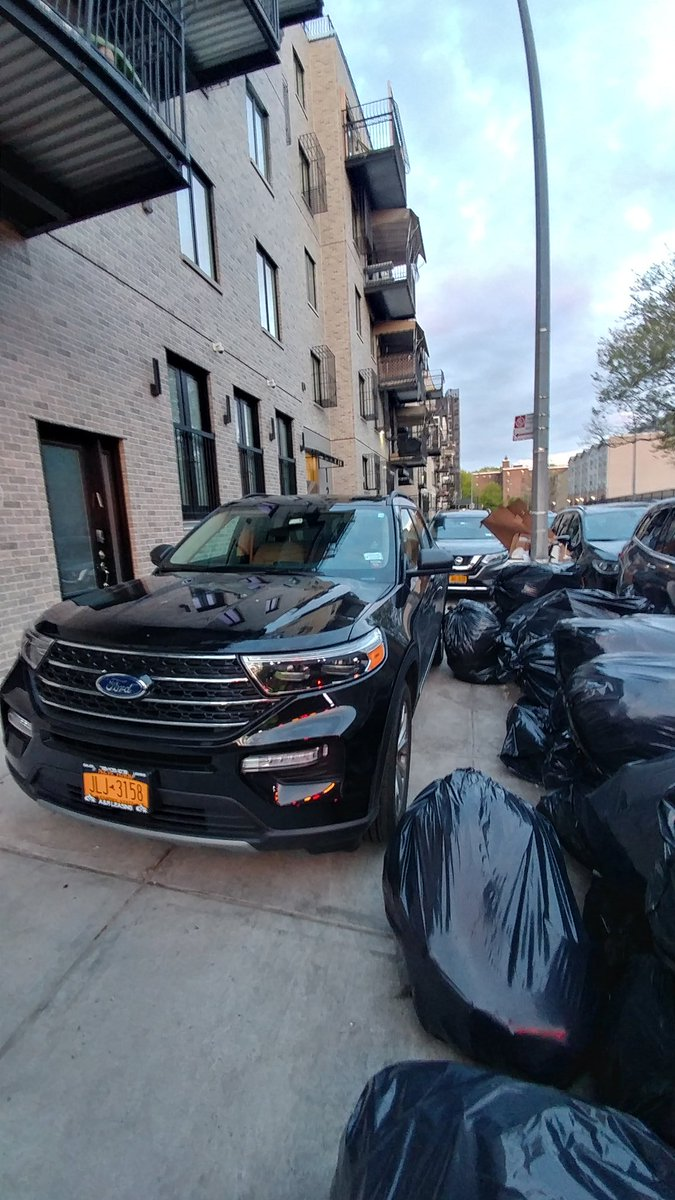building: (1, 1, 402, 538)
car: (1, 486, 448, 877)
sky: (426, 1, 675, 434)
trash: (432, 564, 675, 1200)
